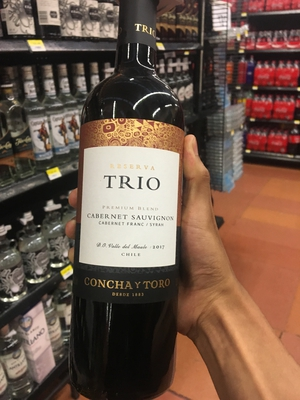trio cabernet sauvignon: (67, 11, 194, 380)
